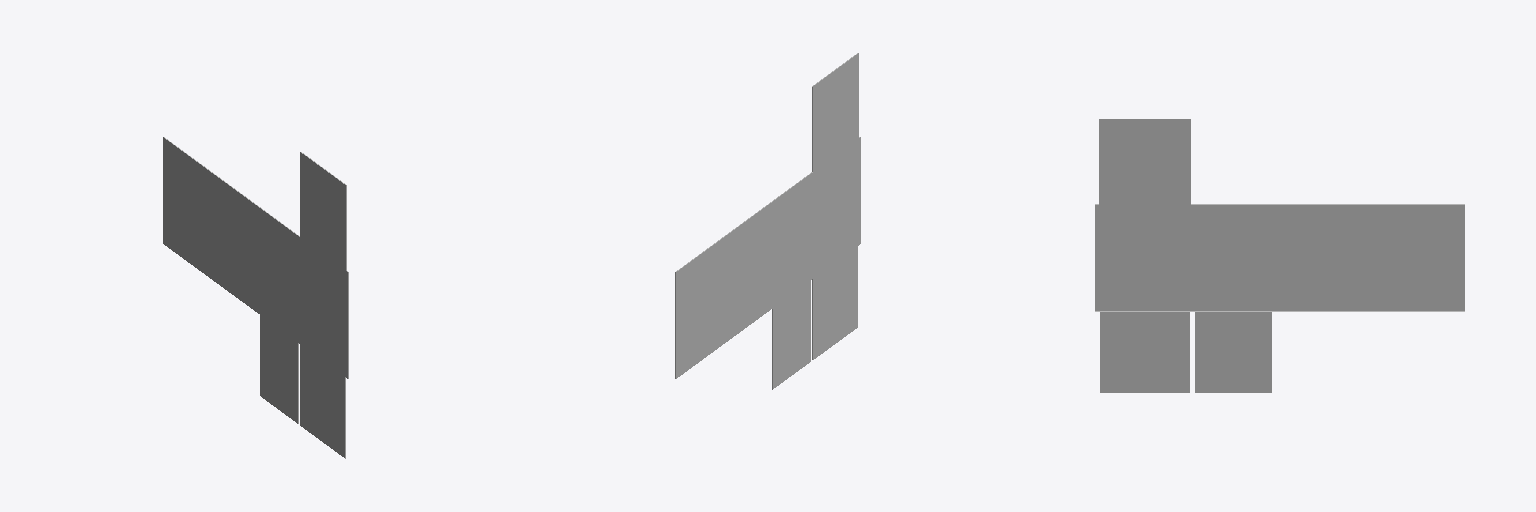
Rendered from Floor.obj.
The picture shows the model from 3 angles: view 1: azimuth 30°, elevation 25°; view 2: azimuth 150°, elevation 25°; view 3: azimuth 270°, elevation 25°; orthographic projection.
Visible parts, largest first — view 1: 1, 4, 3, 2; view 2: 1, 4, 3, 2; view 3: 1, 4, 3, 2.
Part boxes in pixels (left/top/right/bottom): 1: left=163, top=137, right=348, bottom=378; 4: left=300, top=152, right=346, bottom=270; 3: left=300, top=344, right=345, bottom=458; 2: left=260, top=315, right=298, bottom=423; 1: left=675, top=137, right=860, bottom=378; 4: left=812, top=53, right=858, bottom=171; 3: left=812, top=246, right=857, bottom=359; 2: left=772, top=281, right=810, bottom=389; 1: left=1095, top=204, right=1464, bottom=311; 4: left=1099, top=119, right=1190, bottom=204; 3: left=1100, top=311, right=1189, bottom=392; 2: left=1195, top=312, right=1271, bottom=392.
Bounding box in the file's own units: 3.06 × 861 × 1056.